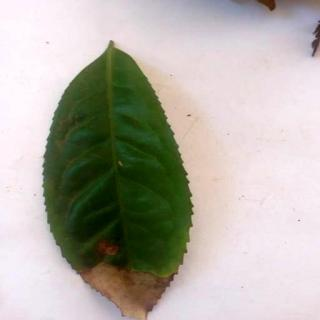Brown Blight: (44, 42, 196, 320)
